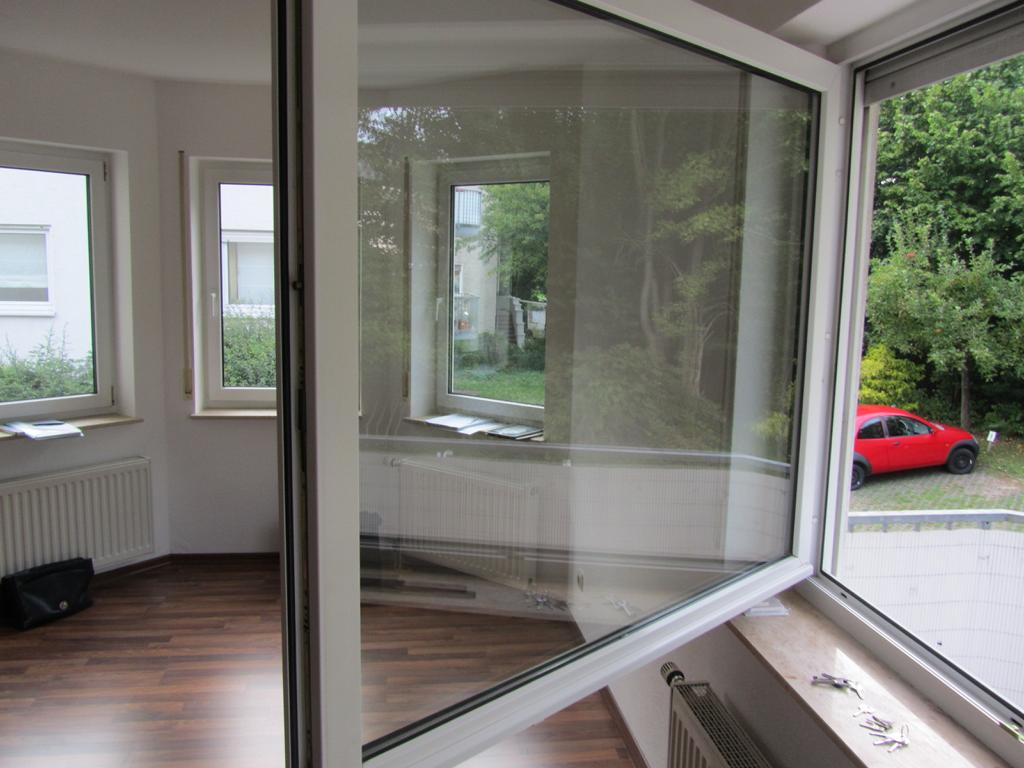windows: (315, 2, 834, 718)
